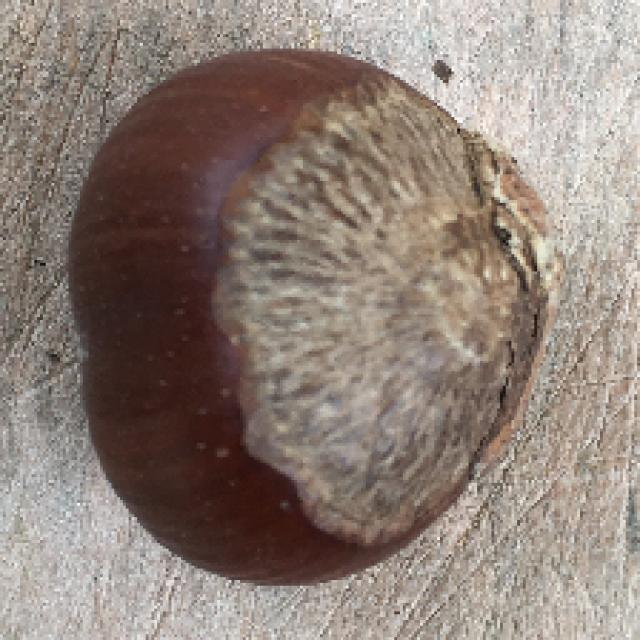damagedHazelnut: (75, 38, 561, 596)
